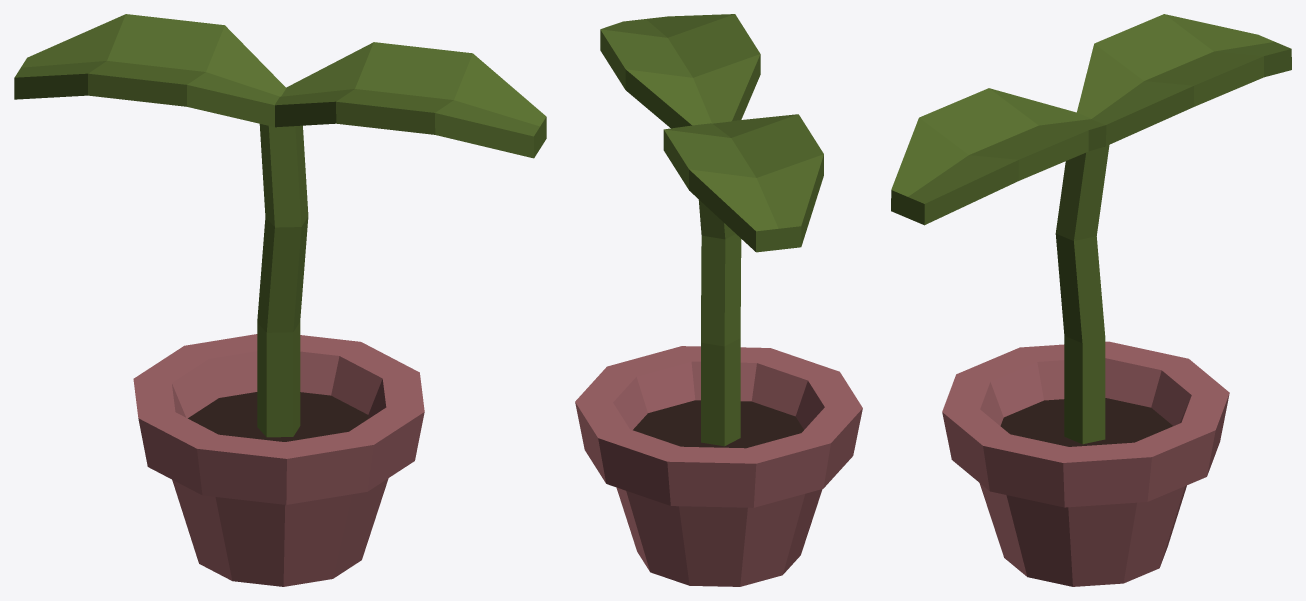
The model's file is smallplant1_2.fbx.
3 views of the same model, side by side, from view 1: azimuth 30°, elevation 25°; view 2: azimuth 150°, elevation 25°; view 3: azimuth 270°, elevation 25° (orthographic). The views are drawn at different scales.
Parts seen in each view (by area): view 1: tableplant.002; view 2: tableplant.002; view 3: tableplant.002.
Boxes of the visible parts, x1,y1,x2,y2 form: tableplant.002: [14, 14, 546, 586]; tableplant.002: [575, 14, 862, 586]; tableplant.002: [891, 14, 1291, 586].
Bounding box in the file's own units: 62.66 × 80.64 × 62.66.
